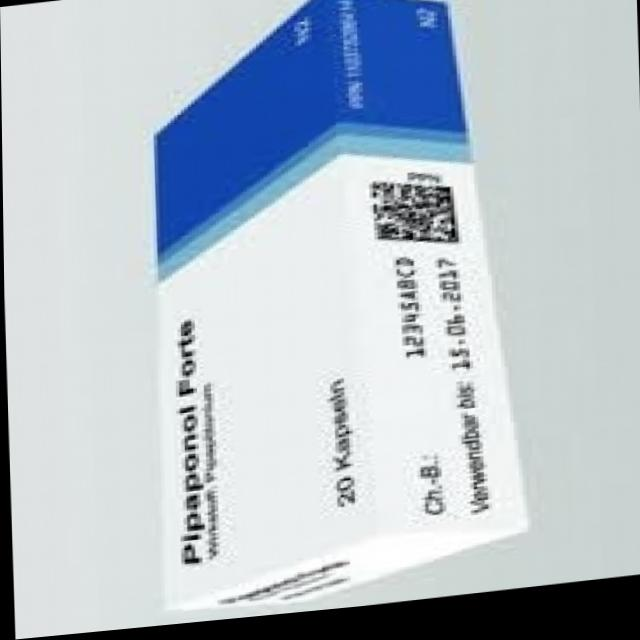datamatrix: (362, 180, 462, 267)
